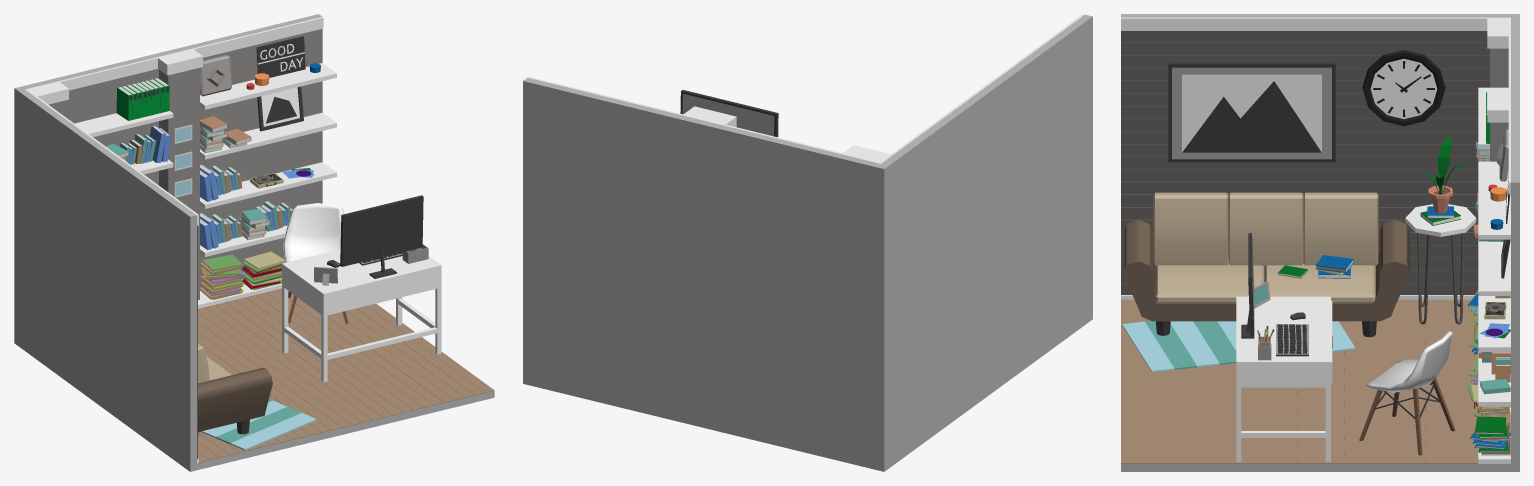
The model's file is office.glb.
The picture shows the model from 3 angles, left to right: view 1: azimuth 30°, elevation 25°; view 2: azimuth 150°, elevation 25°; view 3: azimuth 270°, elevation 25°; orthographic projection. The views are drawn at different scales.
Parts seen in each view (by area): view 1: Office2_base, Office2_parquet1, Office2_table, Office2_shelves, Office2_monitor1, Office2_sofa, Office2_chair, Office2_carpet, Office2_Books5, Office2_magazines1, Office2_Photoframe_4, Office2_decoration1 (+9 smaller); view 2: Office2_base, screen, Office2_monitor1; view 3: Office2_parquet2, Office2_parquet1, Office2_sofa, Office2_base, Office2_picture, Office2_table, Office2_shelves, Office2_carpet, Office2_clock_1, Office2_chair, Office2_little_table, Office2_magazines3 (+8 smaller).
Part boxes in pixels (x1,y1,x2,y2): Office2_base: (14, 14, 494, 471); Office2_parquet1: (198, 288, 494, 462); Office2_table: (282, 249, 441, 382); Office2_shelves: (74, 63, 336, 308); Office2_monitor1: (340, 195, 423, 278); Office2_sofa: (197, 343, 272, 435); Office2_chair: (283, 203, 348, 323); Office2_carpet: (200, 399, 316, 450); Office2_Books5: (116, 77, 169, 120); Office2_magazines1: (200, 254, 244, 299); Office2_Photoframe_4: (257, 86, 303, 131); Office2_decoration1: (256, 36, 305, 77); Office2_base: (523, 14, 1092, 471); screen: (682, 93, 774, 136); Office2_monitor1: (680, 90, 778, 137); Office2_parquet2: (1121, 31, 1489, 294); Office2_parquet1: (1121, 299, 1478, 463); Office2_sofa: (1123, 192, 1409, 337); Office2_base: (1121, 14, 1519, 471); Office2_picture: (1168, 63, 1335, 162); Office2_table: (1236, 296, 1332, 462); Office2_shelves: (1478, 87, 1510, 463); Office2_carpet: (1122, 321, 1355, 372); Office2_clock_1: (1362, 50, 1445, 126); Office2_chair: (1359, 331, 1455, 455); Office2_little_table: (1405, 204, 1476, 324); Office2_magazines3: (1470, 416, 1510, 455).
Bounding box in the file's own units: 5 × 4.01 × 5.
1 material, 1 textured.
